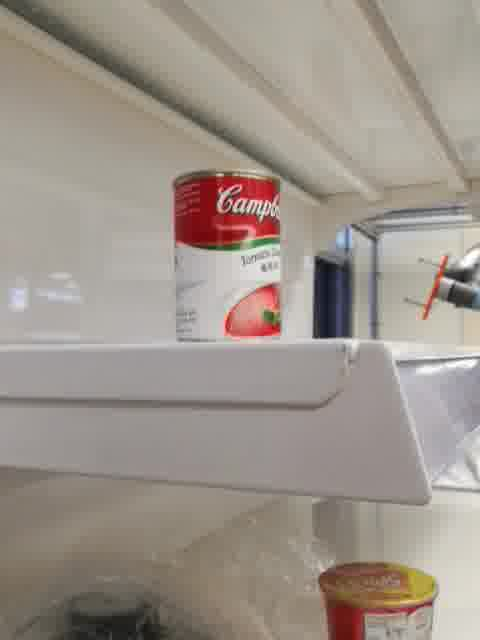tomatosoup: (171, 168, 284, 344)
